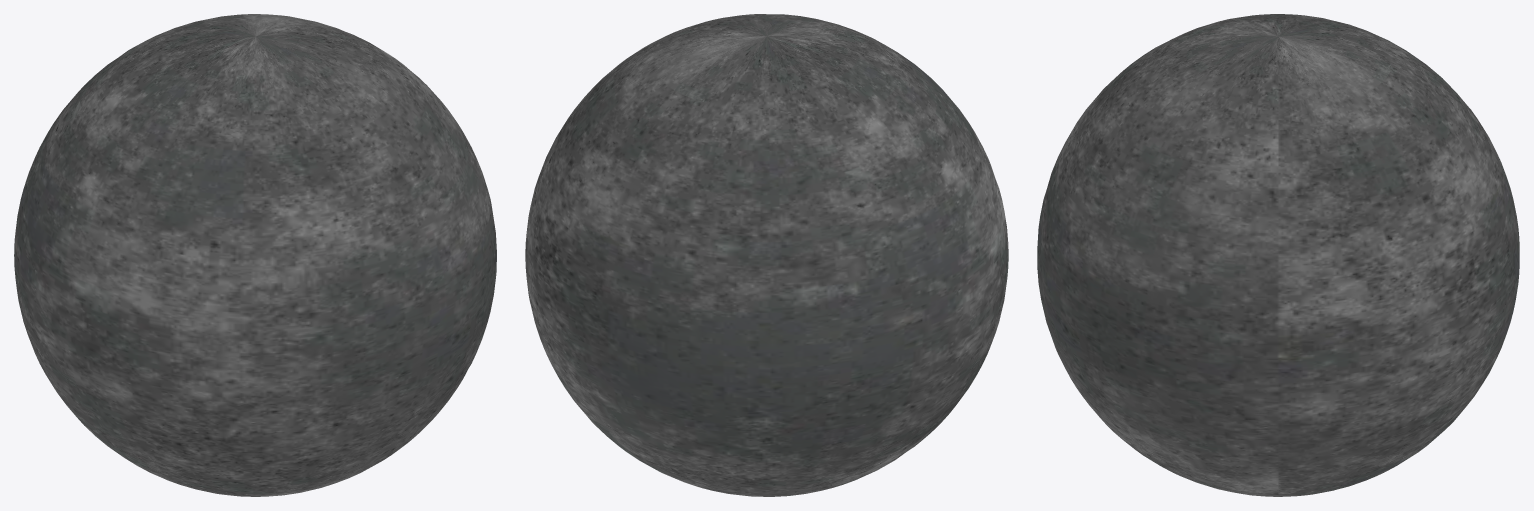
File: planet-transformed.glb
3 renders of one model, left to right at view 1: azimuth 30°, elevation 25°; view 2: azimuth 150°, elevation 25°; view 3: azimuth 270°, elevation 25°, orthographic.
Visible parts, largest first — view 1: Sphere__0; view 2: Sphere__0; view 3: Sphere__0.
Part boxes in pixels (x1,y1,x2,y2): Sphere__0: [14, 14, 496, 496]; Sphere__0: [525, 14, 1008, 496]; Sphere__0: [1037, 14, 1519, 496].
Size of the model in its own units: 2 by 2 by 2.
Materials: 1 (1 with a texture image).
